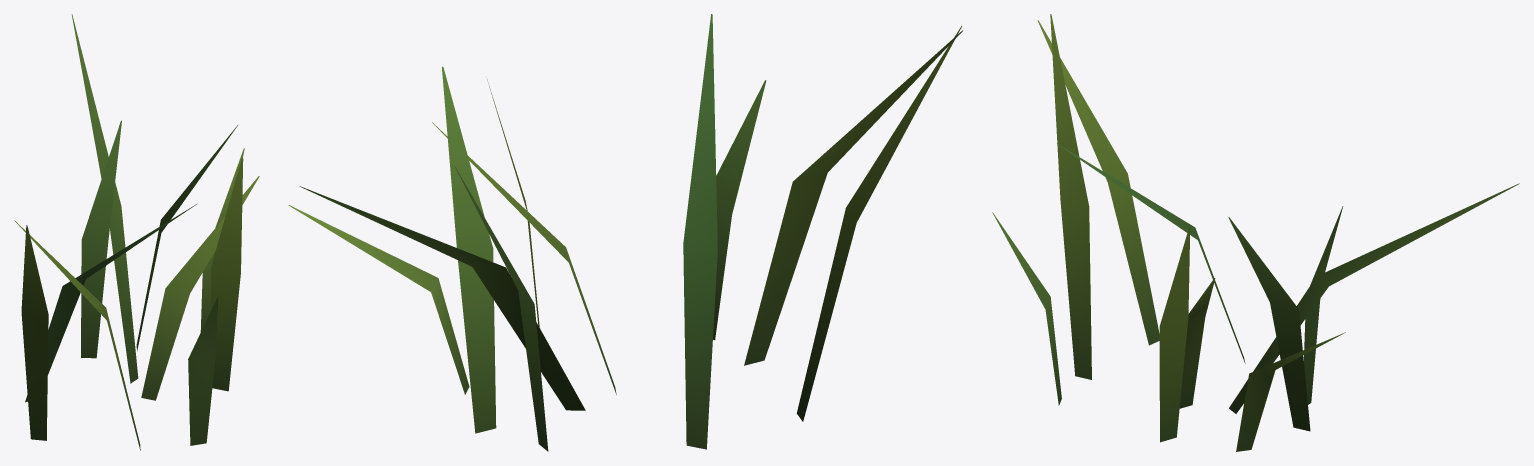
Rendered from grass_tuft_06.glb.
3 views of the same model, side by side, from view 1: azimuth 30°, elevation 25°; view 2: azimuth 150°, elevation 25°; view 3: azimuth 270°, elevation 25° (orthographic). The views are drawn at different scales.
Parts seen in each view (by area): view 1: grass_tuft_06.blades; view 2: grass_tuft_06.blades; view 3: grass_tuft_06.blades.
Boxes of the visible parts, x1,y1,x2,y2 form: grass_tuft_06.blades: [14, 14, 259, 450]; grass_tuft_06.blades: [288, 14, 962, 451]; grass_tuft_06.blades: [992, 14, 1519, 451].
Bounding box in the file's own units: 0.1337 × 0.0947 × 0.1558.
